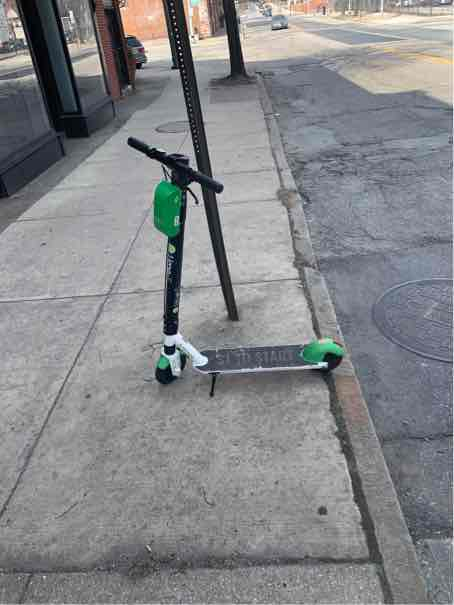too close: (294, 321, 377, 397)
